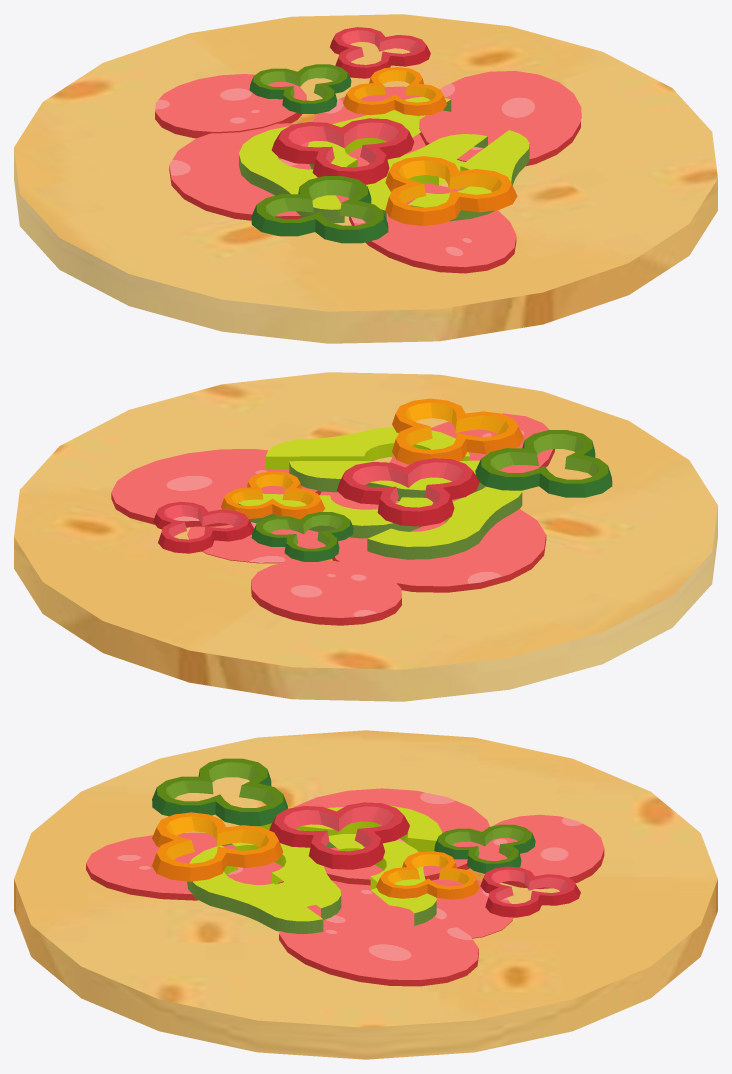
Rendered from taco_Carne_Aguacate_Pimiento.glb.
3 views of the same model, one above another, from view 1: azimuth 30°, elevation 25°; view 2: azimuth 150°, elevation 25°; view 3: azimuth 270°, elevation 25° (orthographic).
Visible parts, largest first — view 1: tortilla.002, Ham_Slice_Ham_0.002, Pepper_Slice_Pepper_0, Avocado_Slice_Avocado_0, Pepper_Slice_Pepper_0.001; view 2: tortilla.002, Ham_Slice_Ham_0.002, Pepper_Slice_Pepper_0, Avocado_Slice_Avocado_0, Pepper_Slice_Pepper_0.001; view 3: tortilla.002, Ham_Slice_Ham_0.002, Pepper_Slice_Pepper_0, Avocado_Slice_Avocado_0, Pepper_Slice_Pepper_0.001.
Boxes of the visible parts, left/top/right/bottom form: tortilla.002: left=14, top=14, right=717, bottom=343; Ham_Slice_Ham_0.002: left=155, top=71, right=581, bottom=273; Pepper_Slice_Pepper_0: left=251, top=118, right=517, bottom=243; Avocado_Slice_Avocado_0: left=239, top=97, right=529, bottom=223; Pepper_Slice_Pepper_0.001: left=249, top=27, right=447, bottom=115; tortilla.002: left=14, top=372, right=717, bottom=701; Ham_Slice_Ham_0.002: left=111, top=413, right=554, bottom=625; Pepper_Slice_Pepper_0: left=337, top=398, right=612, bottom=526; Avocado_Slice_Avocado_0: left=238, top=427, right=522, bottom=559; Pepper_Slice_Pepper_0.001: left=153, top=471, right=353, bottom=561; tortilla.002: left=14, top=730, right=717, bottom=1059; Ham_Slice_Ham_0.002: left=86, top=788, right=604, bottom=986; Pepper_Slice_Pepper_0: left=152, top=758, right=409, bottom=881; Avocado_Slice_Avocado_0: left=187, top=805, right=442, bottom=933; Pepper_Slice_Pepper_0.001: left=376, top=824, right=580, bottom=917.
Size of the model in its own units: 0.2118 by 0.023 by 0.2118.
4 materials, 4 textured.
